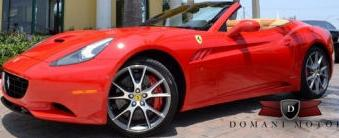front_view: (2, 33, 113, 118)
headlight: (56, 31, 115, 74)
side_glass: (210, 0, 303, 41)
